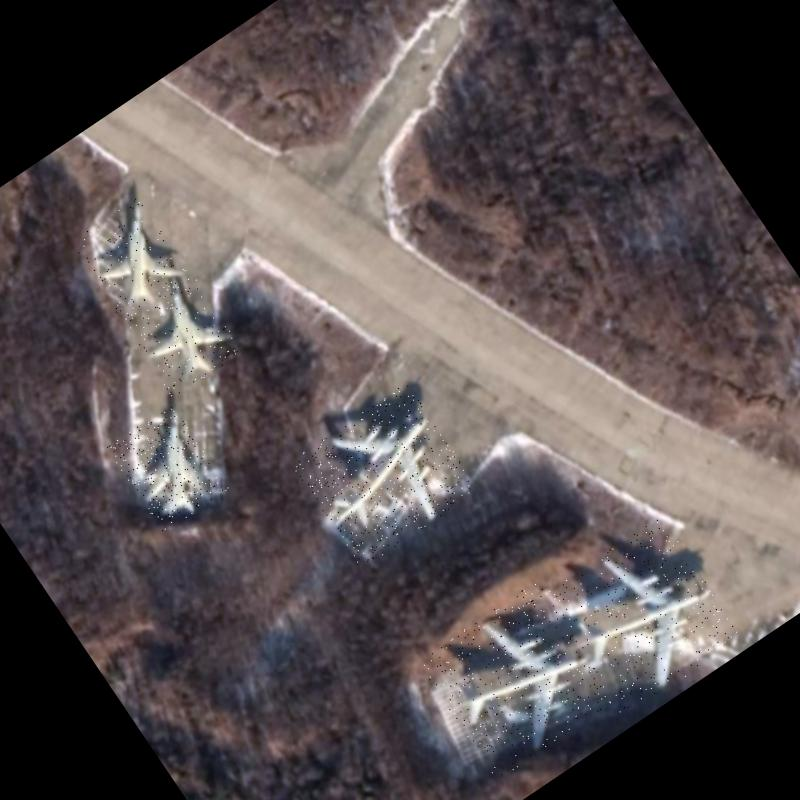A12: (114, 262, 245, 399), (106, 403, 230, 533), (72, 197, 192, 322)
A17: (540, 514, 744, 718), (416, 580, 618, 780), (290, 382, 480, 569)
